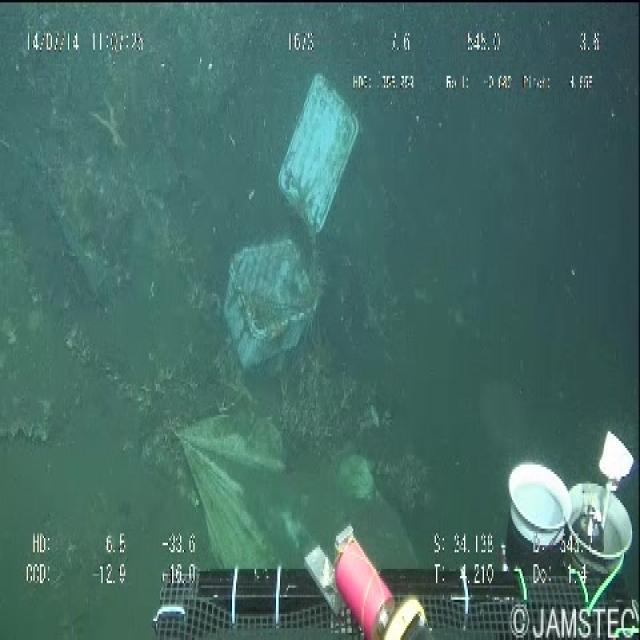plastic: (207, 64, 370, 396)
